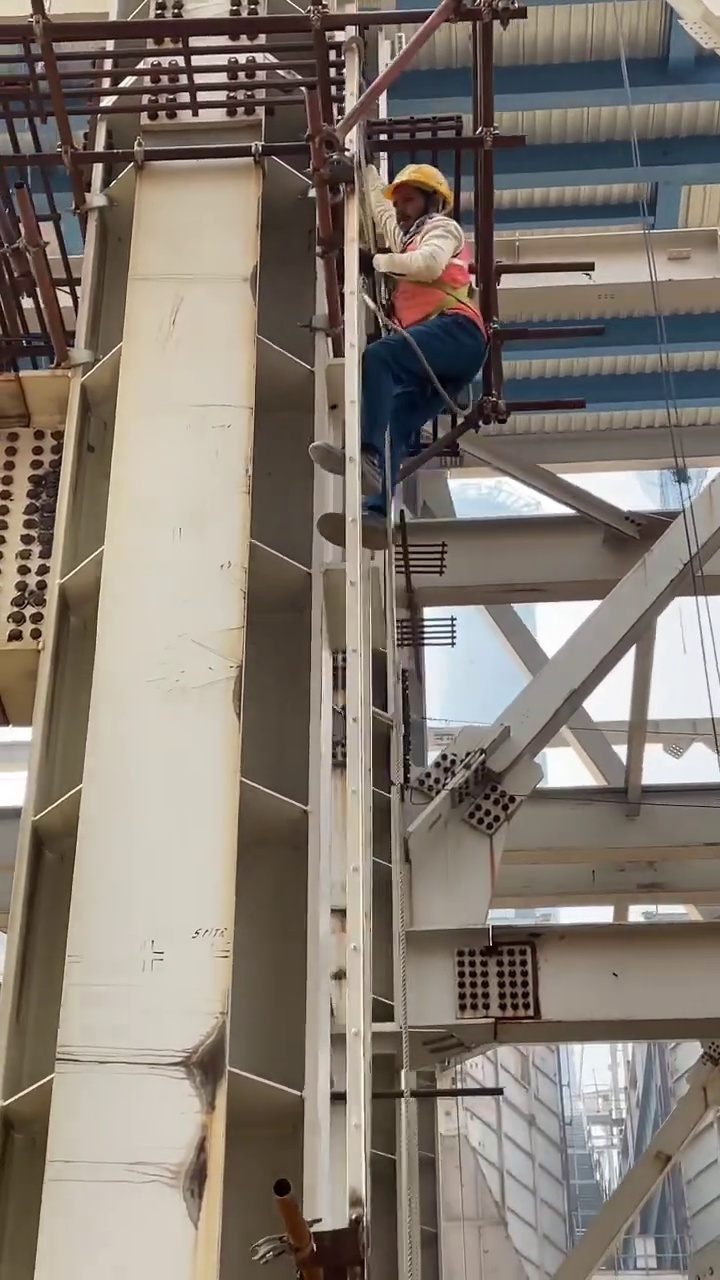Helmet: (391, 165, 458, 209)
Person: (309, 163, 491, 564)
Safety_Harness: (384, 218, 489, 399)
Safety_shoes: (309, 433, 388, 496), (317, 510, 401, 556)
